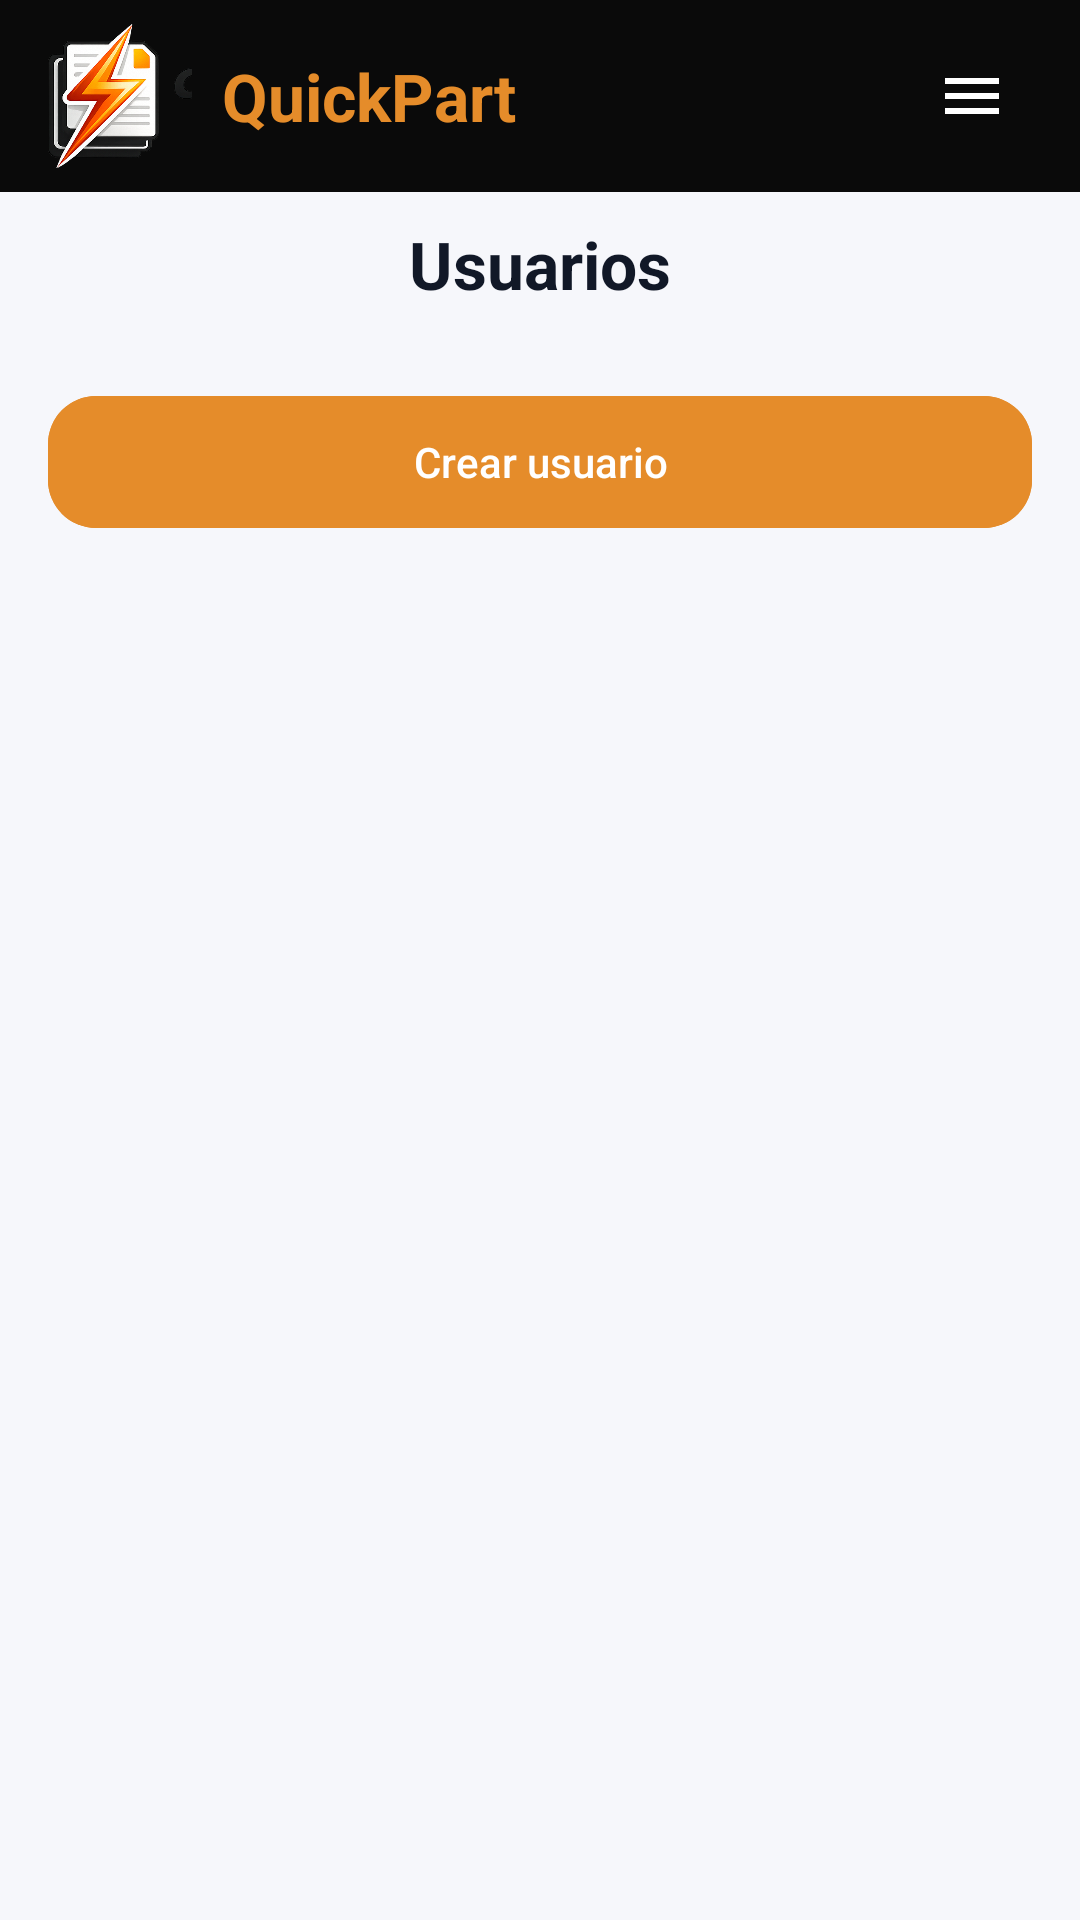

Icon click points for this 1080*1920 phone screenshot, format (x=x, y=y):
Menu: (x=972, y=96)
